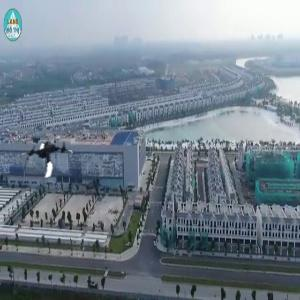drone: (22, 131, 74, 183)
